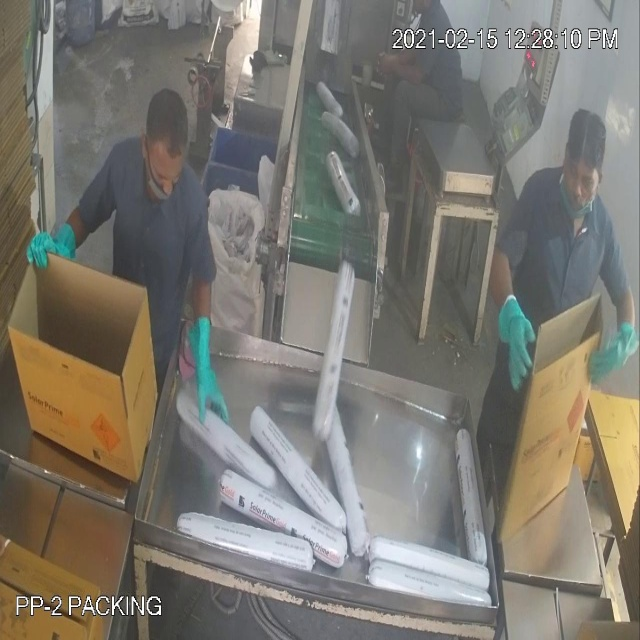Guantes: (483, 232, 543, 401), (177, 284, 236, 443), (578, 275, 640, 406), (8, 191, 87, 286)
Sin_guantes: (373, 37, 436, 100)
